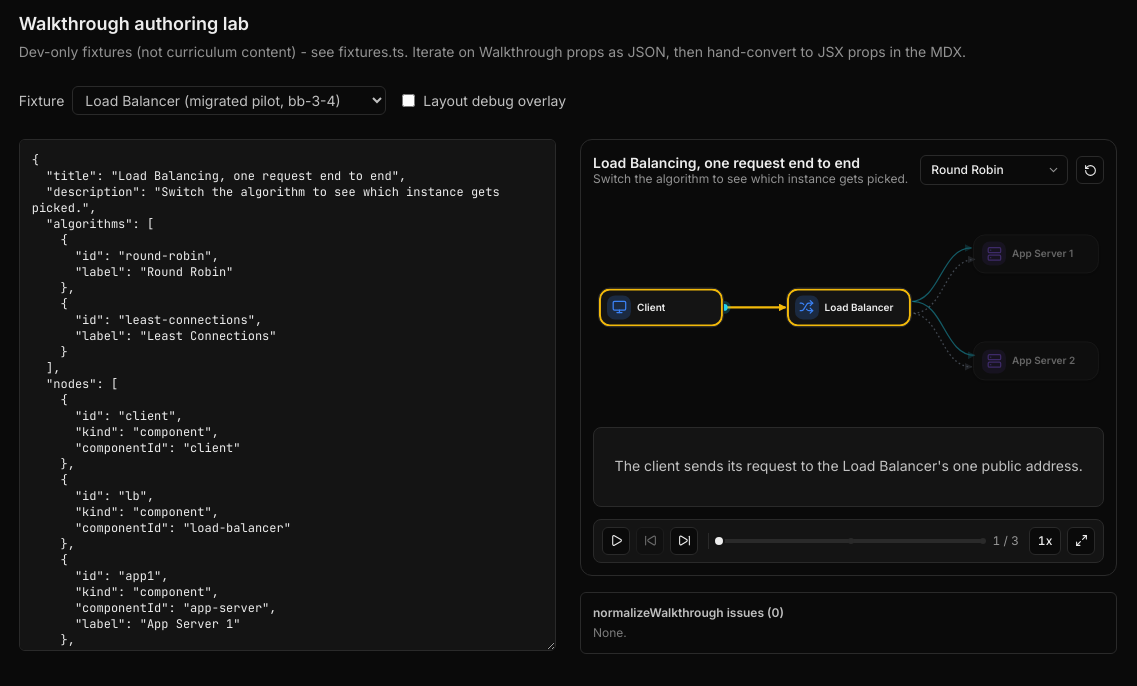
Test: WalkthroughLabContent › the broken fixture lists its issues
The width and height of the screenshot is (1137, 686).
Select "Broken (bad componentId + bad focus id)" in the dropdown labelled "Fixture" at (229, 100), box [72,86,386,115]
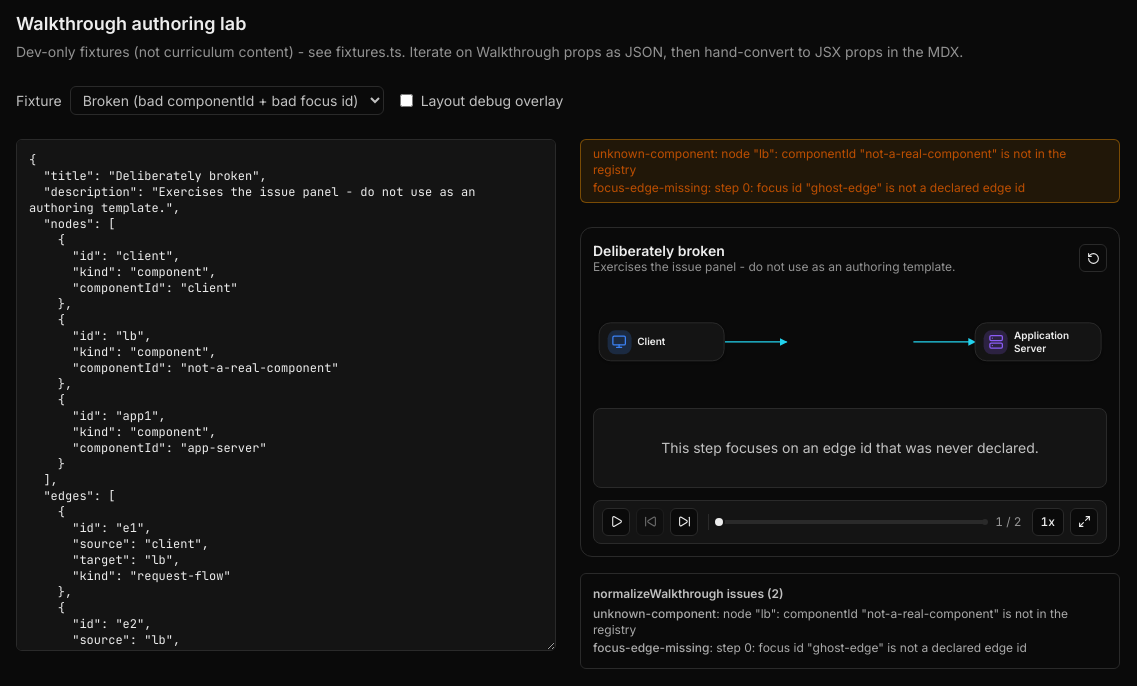
Expected: the text "unknown-component" is shown, [593,146,714,161]
Expected: the text "focus-edge-missing" is shown, [593,180,708,195]
